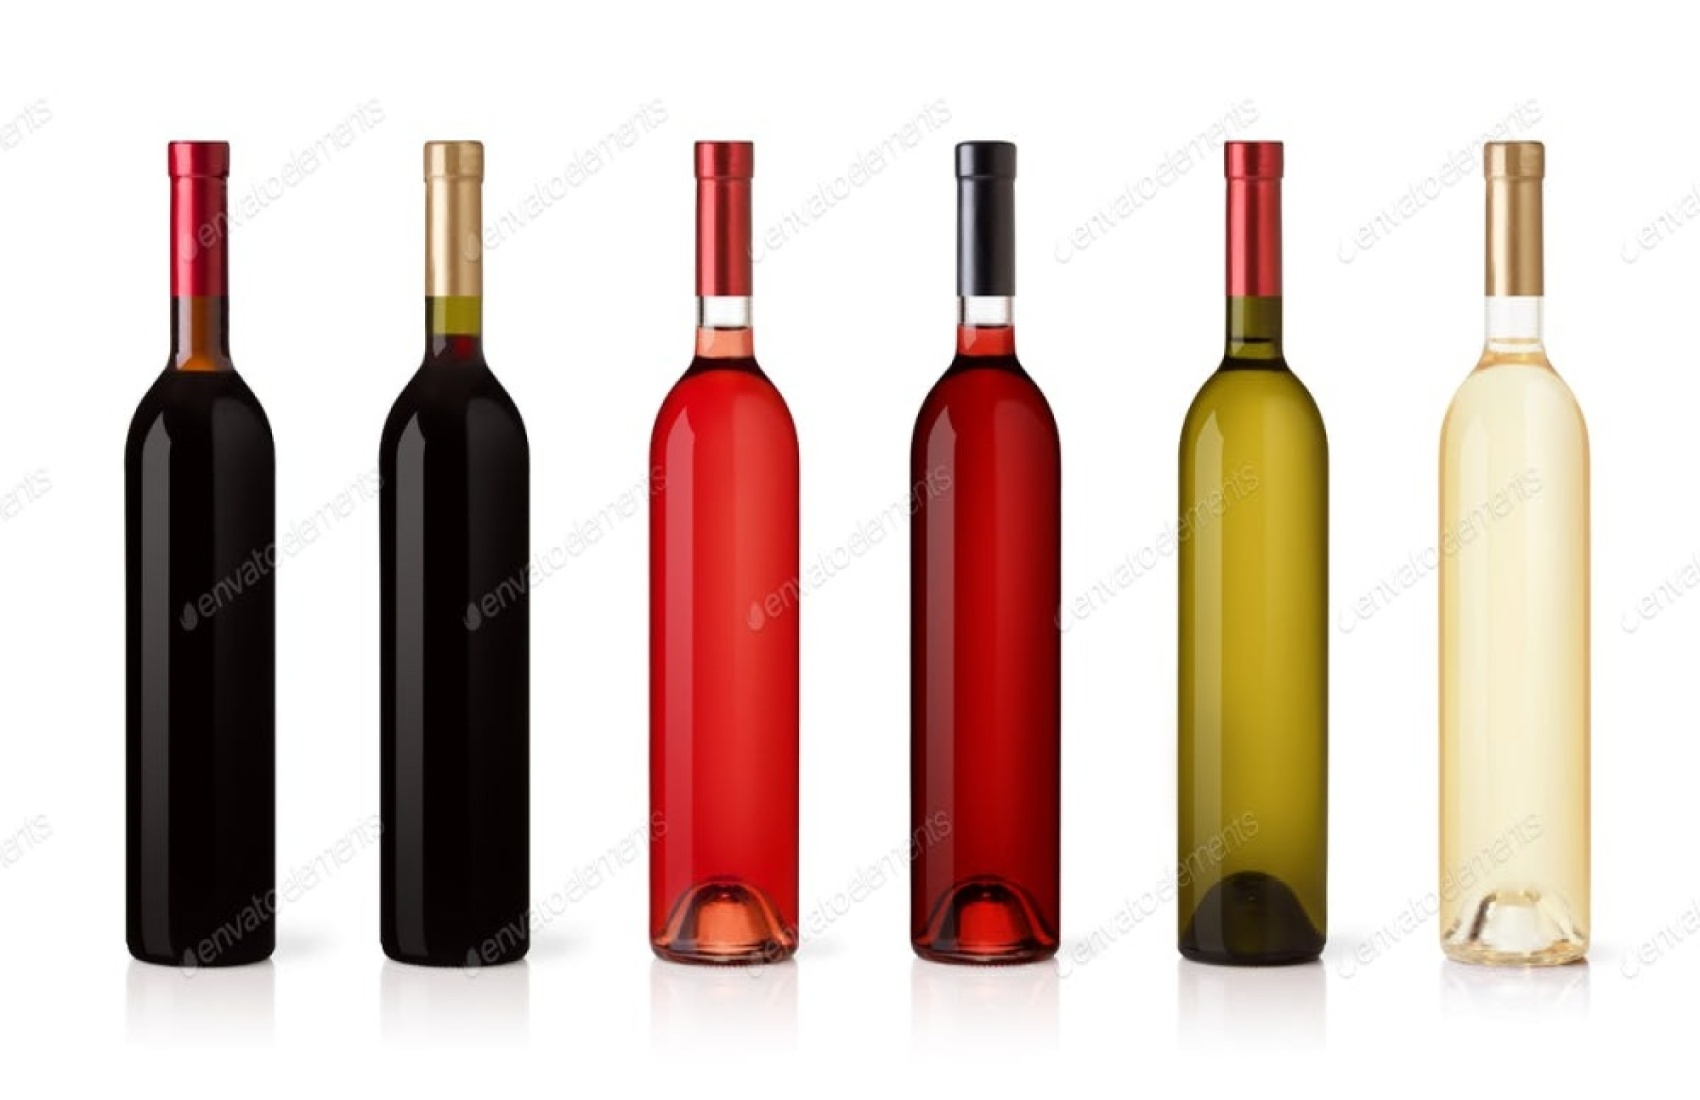wine: (120, 144, 276, 960), (377, 159, 533, 975), (909, 141, 1066, 958), (1172, 145, 1328, 961), (1435, 162, 1591, 979), (648, 137, 804, 953)
